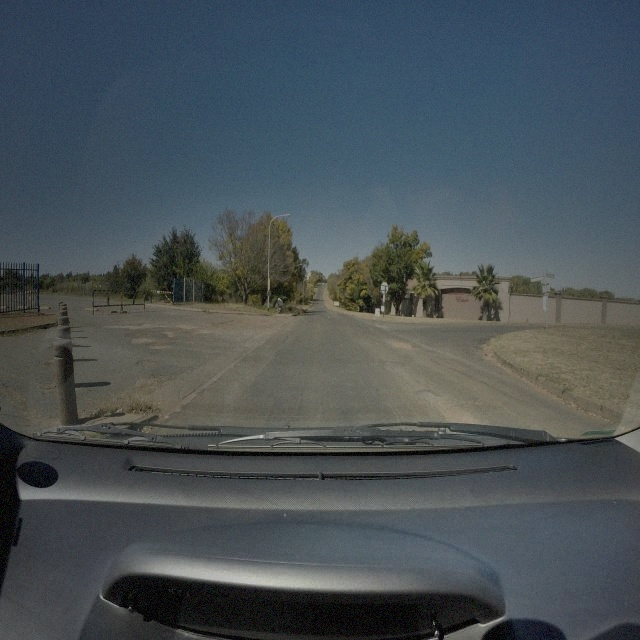pothole: (212, 317, 244, 330), (388, 338, 414, 353), (136, 359, 161, 371)
